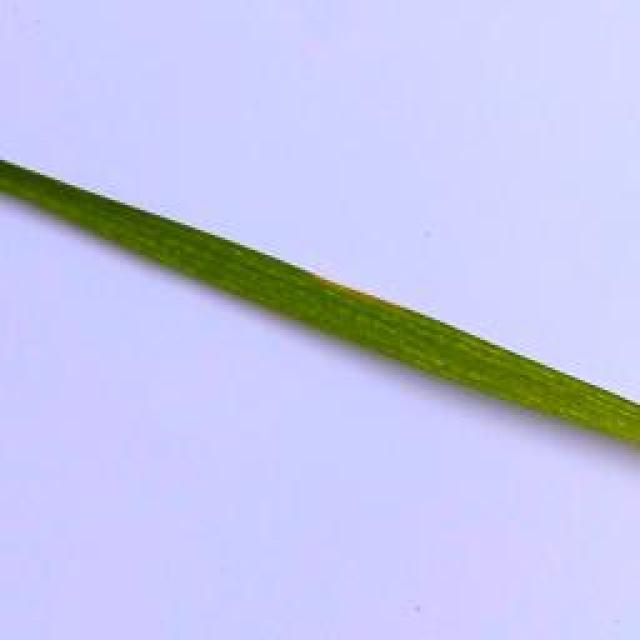Bacterial_Blight: (298, 264, 422, 322)
